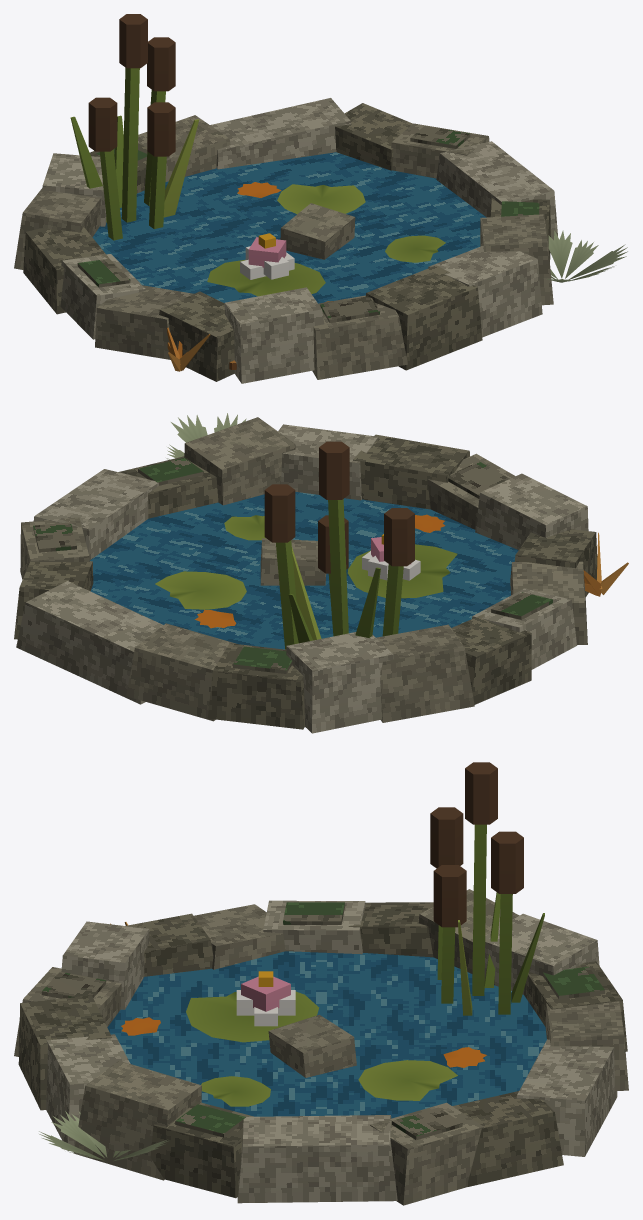
Rendered from decor_pond.glb.
3 views of the same model, one above another, from view 1: azimuth 30°, elevation 25°; view 2: azimuth 150°, elevation 25°; view 3: azimuth 270°, elevation 25° (orthographic). The views are drawn at different scales.
Parts seen in each view (by area): view 1: decor_pond; view 2: decor_pond; view 3: decor_pond.
Part boxes in pixels (box(x1,y1,x2,y2)): decor_pond: box(14, 14, 627, 383); decor_pond: box(14, 413, 628, 733); decor_pond: box(14, 762, 628, 1205).
Size of the model in its own units: 3.55 by 1.65 by 3.54.
Materials: 16 (6 with a texture image).
